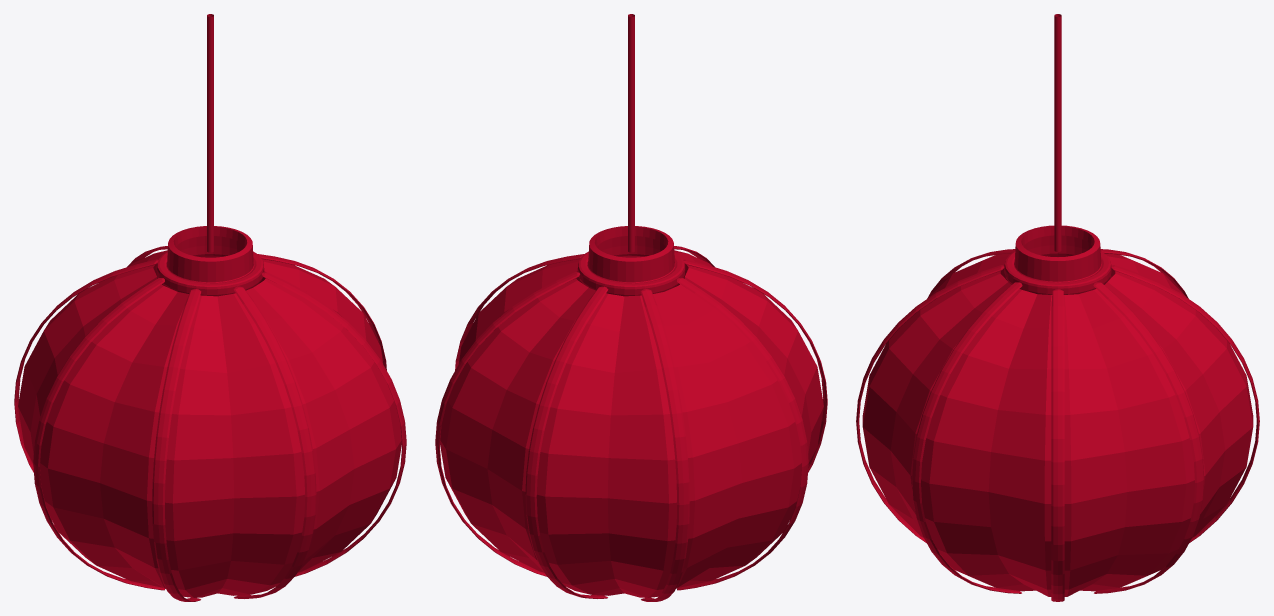
File: lamp.fbx
3 views of the same model, side by side, from view 1: azimuth 30°, elevation 25°; view 2: azimuth 150°, elevation 25°; view 3: azimuth 270°, elevation 25° (orthographic).
Parts seen in each view (by area): view 1: Lantern; view 2: Lantern; view 3: Lantern.
Boxes of the visible parts, x1,y1,x2,y2 form: Lantern: [14, 14, 406, 601]; Lantern: [435, 14, 827, 601]; Lantern: [856, 14, 1259, 601].
Bounding box in the file's own units: 325 × 498 × 325.
